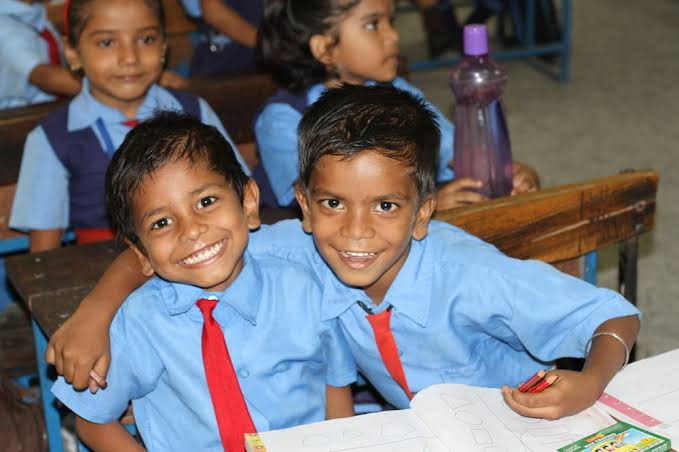student: (291, 92, 437, 290), (108, 112, 262, 282), (255, 1, 409, 86), (71, 1, 170, 99)
